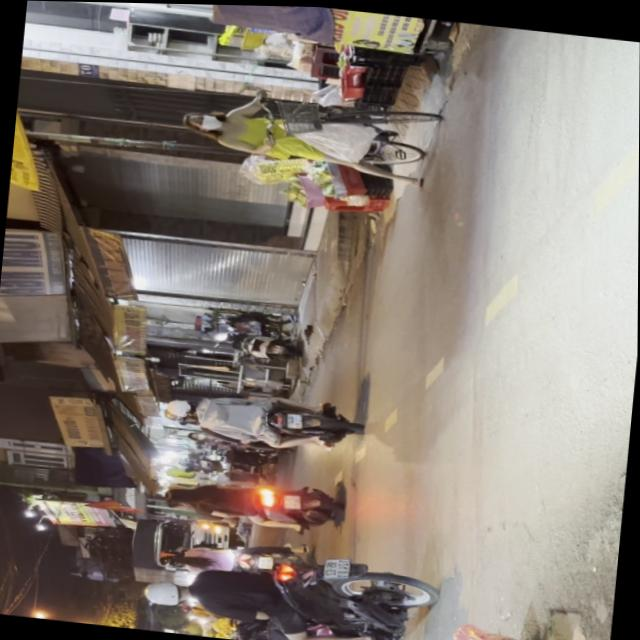helmet: (142, 576, 190, 606)
licenseplate: (136, 532, 440, 640)
nohelmet: (322, 553, 349, 580)
